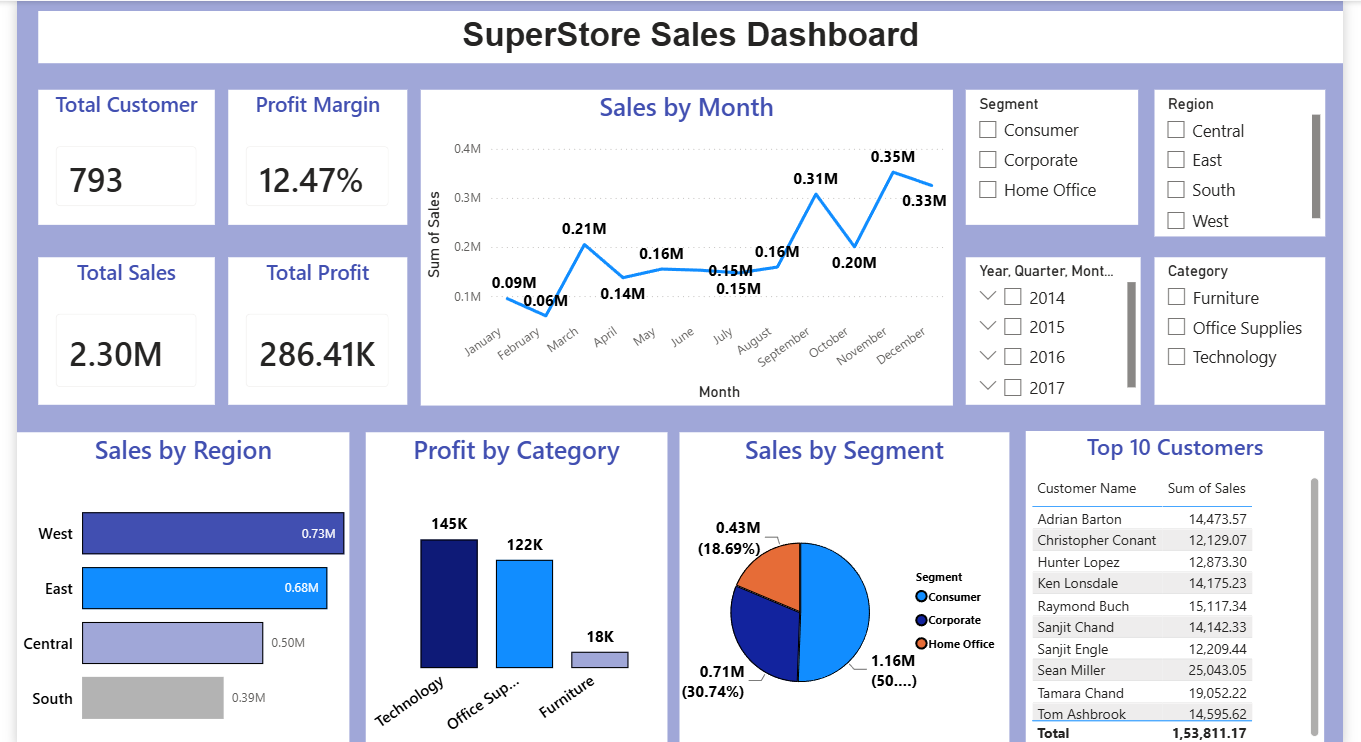

This screenshot's page, from the dashboard's own definition file:
{"tool":"powerbi","page":{"name":"Page 1","canvas":[1280,720],"ordinal":0},"visuals":[{"type":"cardVisual","title":"Total Customer","fields":{"Data":["Clean_Superstore_Sale_data.Total Customers"]},"box":[20.6,85.1,170.2,130.4],"z":0},{"type":"cardVisual","title":"Profit Margin","fields":{"Data":["Clean_Superstore_Sale_data.Total Profit Margin"]},"box":[204.5,85.1,172.9,130.4],"z":1000},{"type":"clusteredBarChart","title":" Sales by Region","fields":{"Category":["Clean_Superstore_Sale_data.Region"],"Y":["Sum(Clean_Superstore_Sale_data.Sales)"]},"box":[0,415.8,321.1,304.6],"z":2000},{"type":"clusteredColumnChart","title":"Profit by Category","fields":{"Category":["Clean_Superstore_Sale_data.Category"],"Y":["Sum(Clean_Superstore_Sale_data.Profit)"]},"box":[336.2,415.8,290.9,304.6],"z":3000},{"type":"pieChart","title":"Sales by Segment","fields":{"Category":["Clean_Superstore_Sale_data.Segment"],"Y":["Sum(Clean_Superstore_Sale_data.Sales)"]},"box":[639.5,415.8,318.4,304.6],"z":4000},{"type":"tableEx","title":"Top 10 Customers","fields":{"Values":["Clean_Superstore_Sale_data.Customer Name","Sum(Clean_Superstore_Sale_data.Sales)"]},"box":[973.6,415,288.3,305.2],"z":5000},{"type":"lineChart","title":" Sales by Month","fields":{"Category":["Clean_Superstore_Sale_data.Order Date .Variation.Date Hierarchy.Month"],"Y":["Sum(Clean_Superstore_Sale_data.Sales)"]},"box":[389.7,85.1,513.2,304.6],"z":6000},{"type":"cardVisual","title":"Total Sales ","fields":{"Data":["Sum(Clean_Superstore_Sale_data.Sales)"]},"box":[20.6,247,170.2,142.7],"z":7000},{"type":"cardVisual","title":"Total Profit","fields":{"Data":["Sum(Clean_Superstore_Sale_data.Profit)"]},"box":[204.5,247,172.9,142.7],"z":8000},{"type":"textbox","box":[20.6,9.6,1259.7,50.8],"z":9000},{"type":"slicer","fields":{"Values":["Clean_Superstore_Sale_data.Region"]},"box":[1097.8,85.1,164.7,141.3],"z":10000},{"type":"slicer","fields":{"Values":["Clean_Superstore_Sale_data.Category"]},"box":[1097.8,247,164.7,142.7],"z":11000},{"type":"slicer","fields":{"Values":["Clean_Superstore_Sale_data.Segment"]},"box":[915.3,85.1,166,130.4],"z":12000},{"type":"slicer","fields":{"Values":["Clean_Superstore_Sale_data.Order Date .Variation.Date Hierarchy.Year","Clean_Superstore_Sale_data.Order Date .Variation.Date Hierarchy.Quarter","Clean_Superstore_Sale_data.Order Date .Variation.Date Hierarchy.Month","Clean_Superstore_Sale_data.Order Date .Variation.Date Hierarchy.Day"]},"box":[915.3,247,168.8,142.7],"z":13000}]}

Visuals, with their boxes in screenshot pixels (x1, y1, x2, y2):
"Total Customer" cardVisual: (32, 86, 211, 223)
"Profit Margin" cardVisual: (226, 86, 408, 223)
" Sales by Region" clusteredBarChart: (11, 434, 348, 741)
"Profit by Category" clusteredColumnChart: (364, 434, 670, 741)
"Sales by Segment" pieChart: (683, 434, 1018, 741)
"Top 10 Customers" tableEx: (1035, 433, 1338, 741)
" Sales by Month" lineChart: (421, 86, 960, 406)
"Total Sales " cardVisual: (32, 256, 211, 406)
"Total Profit" cardVisual: (226, 256, 408, 406)
textbox: (32, 7, 1357, 60)
slicer - Clean_Superstore_Sale_data.Region: (1165, 86, 1339, 235)
slicer - Clean_Superstore_Sale_data.Category: (1165, 256, 1339, 406)
slicer - Clean_Superstore_Sale_data.Segment: (973, 86, 1148, 223)
slicer - Clean_Superstore_Sale_data.Order Date .Variation.Date Hierarchy.Year x Clean_Superstore_Sale_data.Order Date .Variation.Date Hierarchy.Quarter: (973, 256, 1151, 406)
